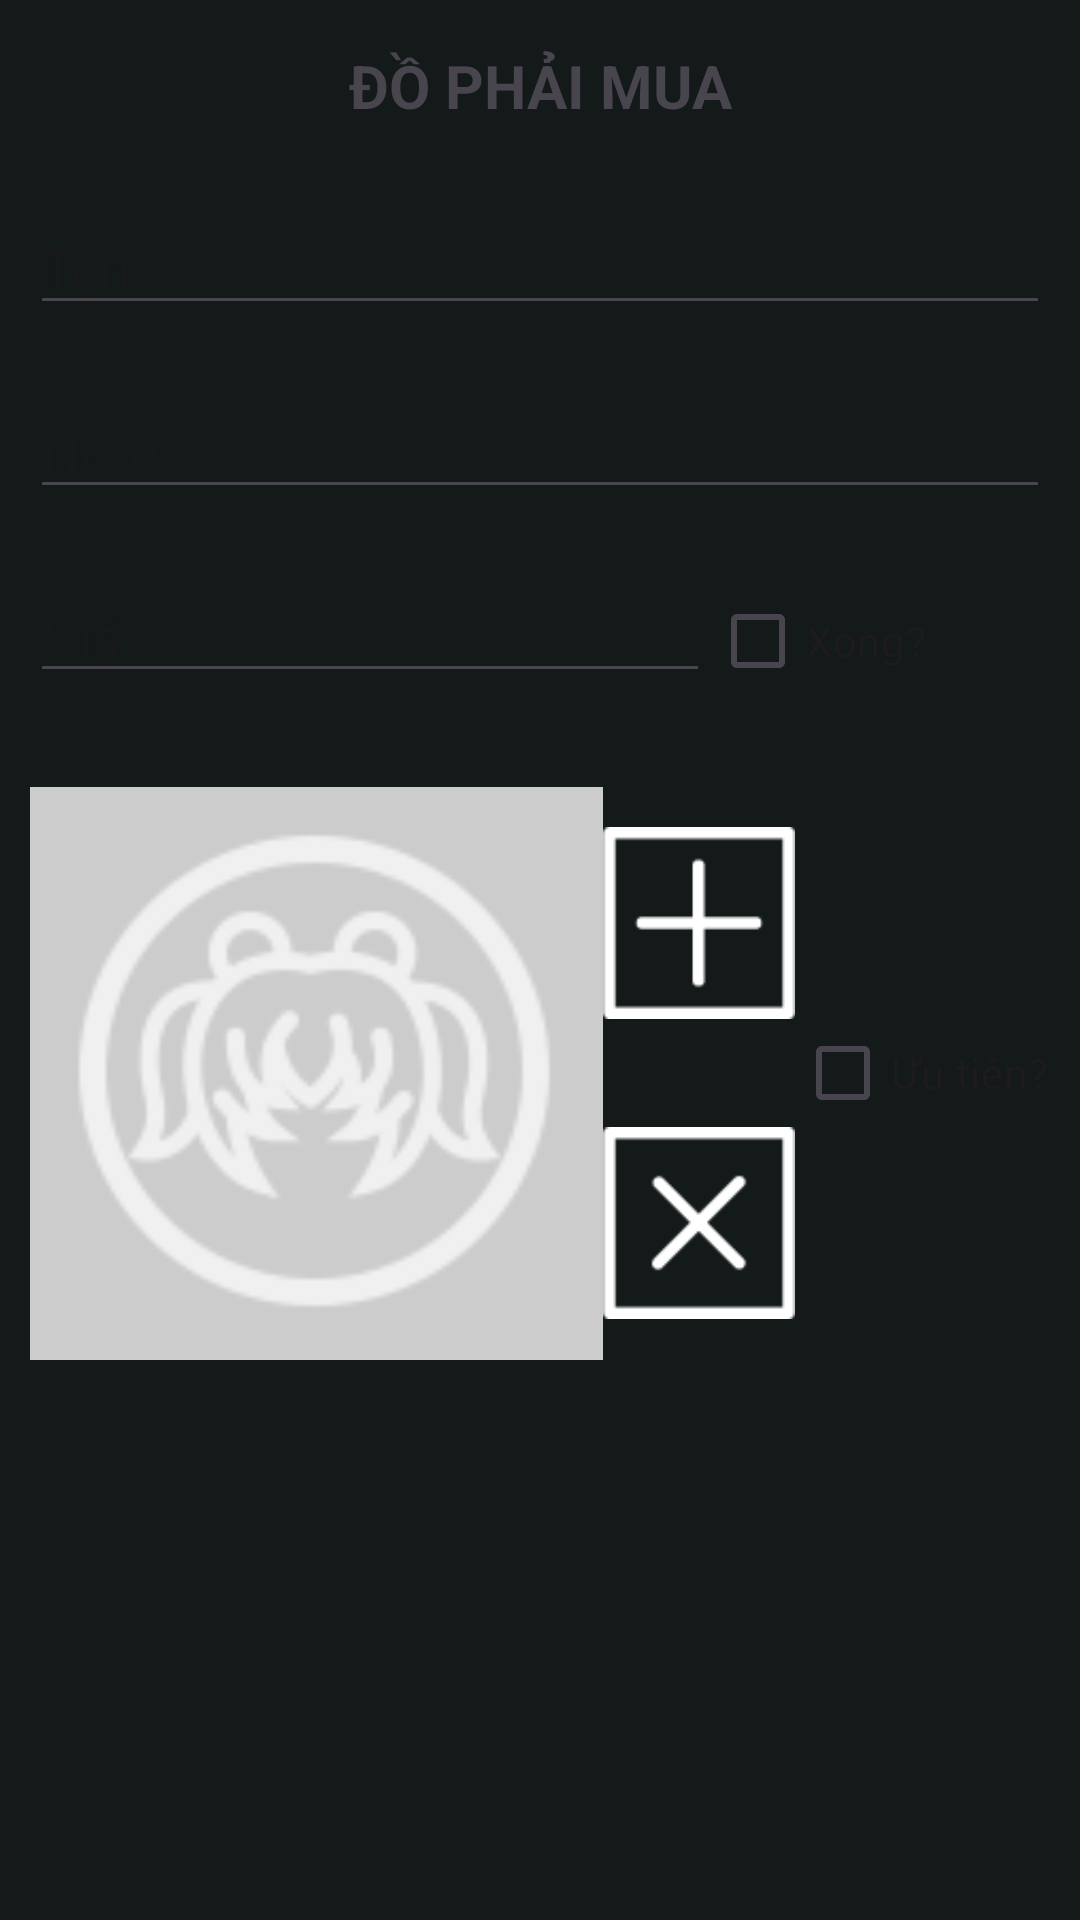

Locate icon controls on the screen. Image size 1080px×1920px, boxes as (x1=x1, y1=y1, x2=x2, y2=y2).
element add: (x1=603, y1=827, x2=795, y2=1019)
element remove: (x1=603, y1=1127, x2=795, y2=1319)
